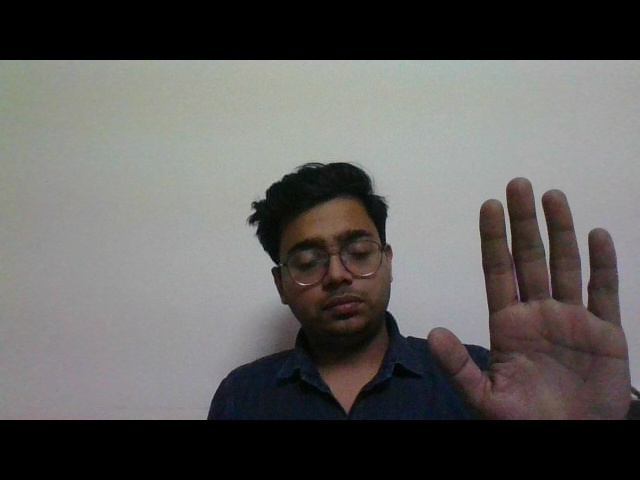Hello: (415, 154, 636, 423)
